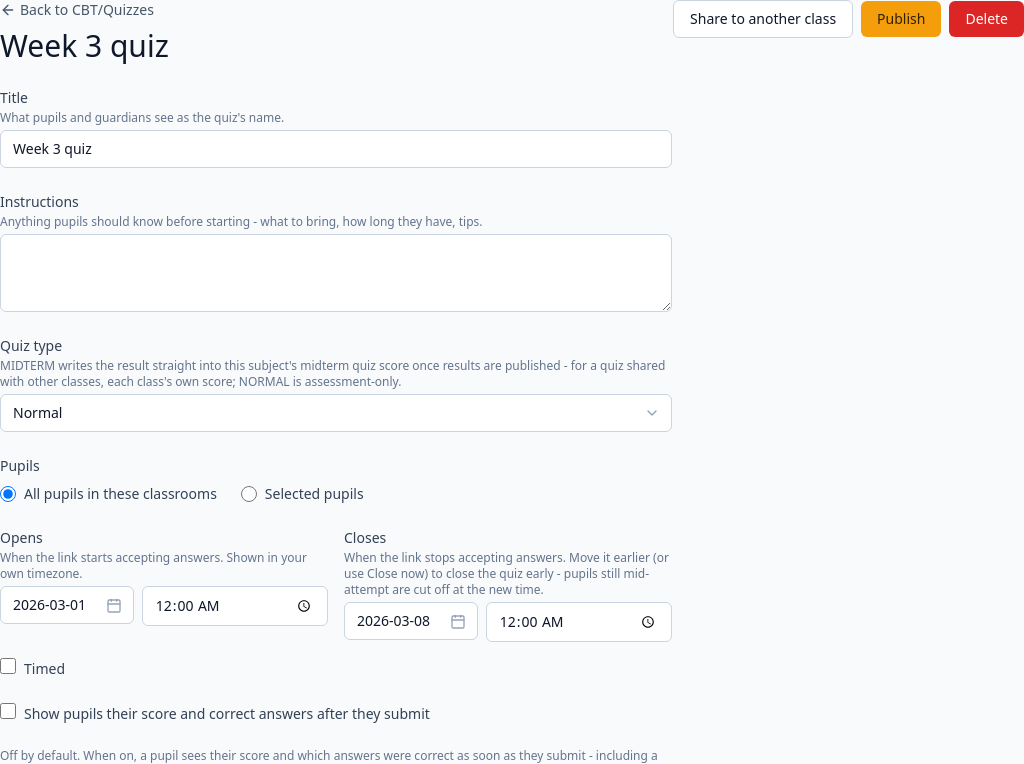
Test: TakeHomeQuizEditorPage - sharing a copy with another class › sends the saved quiz to the chosen classrooms and reports the outcome
What coordinates should you click on to do the following:
click the button "Share to another class"
I would click on:
 (763, 19)
Its box is [673,0,853,38].
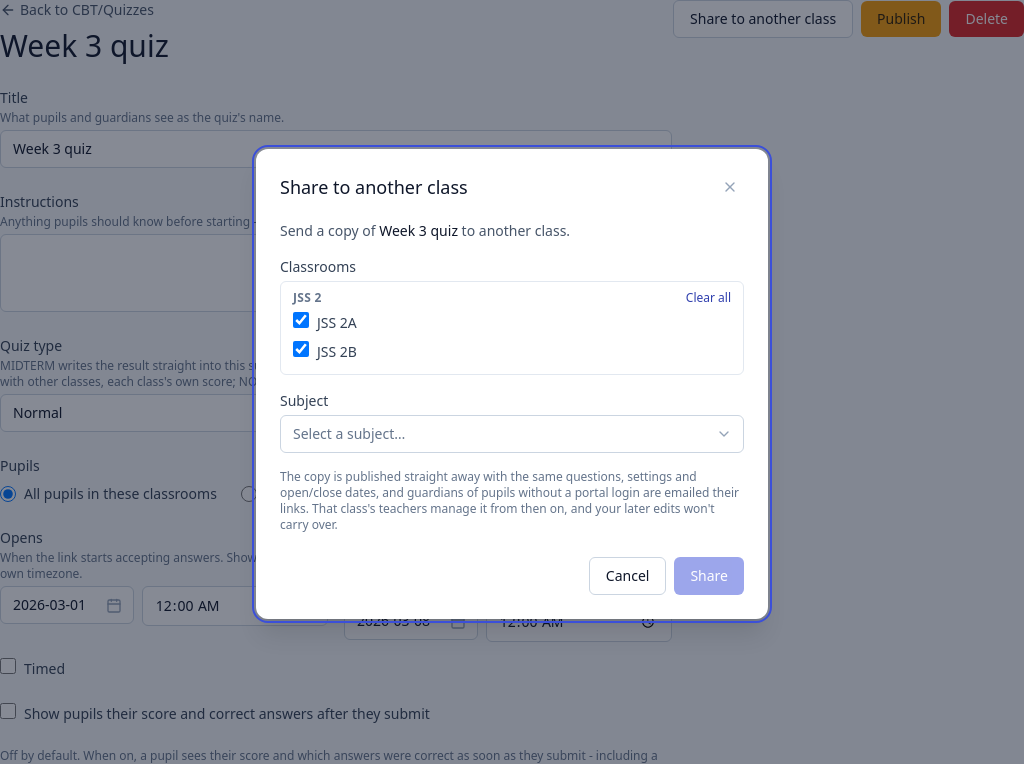
Expected: the checkbox labelled "JSS 2A" is checked, [293,312,309,328]
Expected: the checkbox labelled "JSS 2B" is checked, [293,341,309,357]
What coordinates should you click on to do the following:
click the dropdown labelled "Subject"
I would click on:
 (512, 434)
Its box is [280,415,744,453].
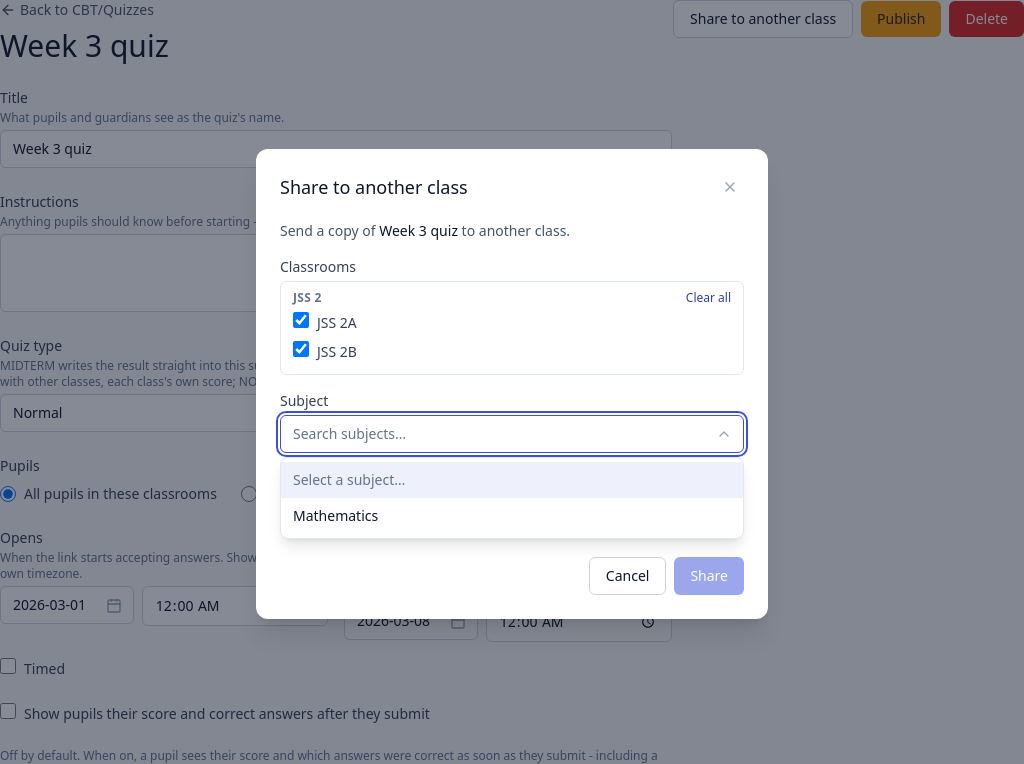
What coordinates should you click on to do the following:
click the option "Mathematics"
I would click on:
 (336, 516)
Its box is [293,506,378,525].
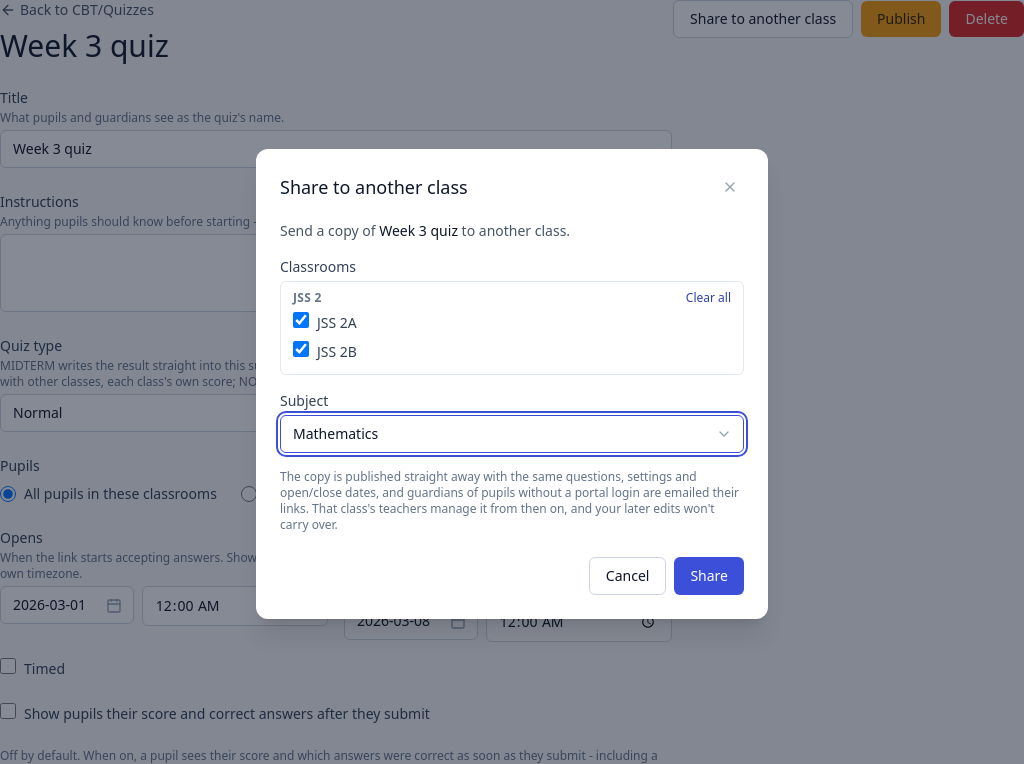
What coordinates should you click on to do the following:
click the button "Share"
I would click on:
 (709, 576)
Its box is [674,557,744,595].
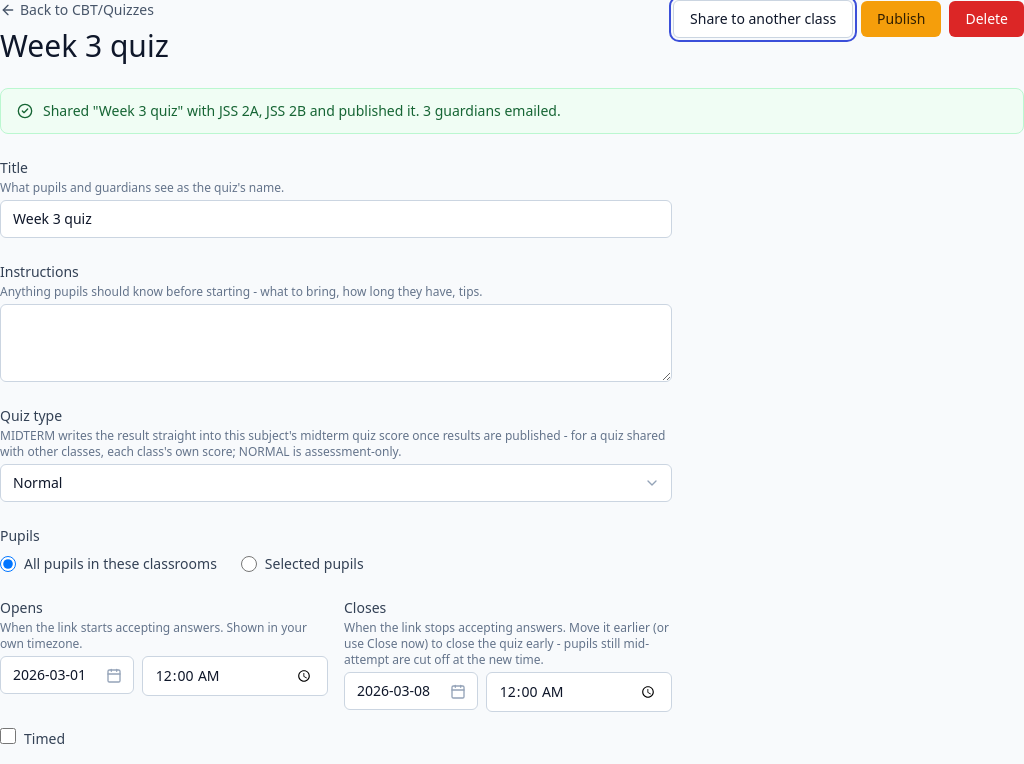
Expected: the text "Shared \"Week 3 quiz\" with JSS 2A, JSS 2B and published it. 3 guardians emailed." is shown, [43,101,561,121]
